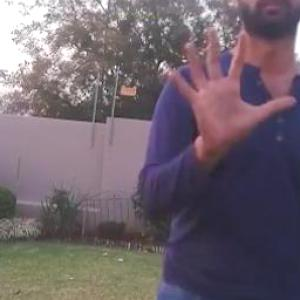follow_hand: (160, 21, 299, 147)
